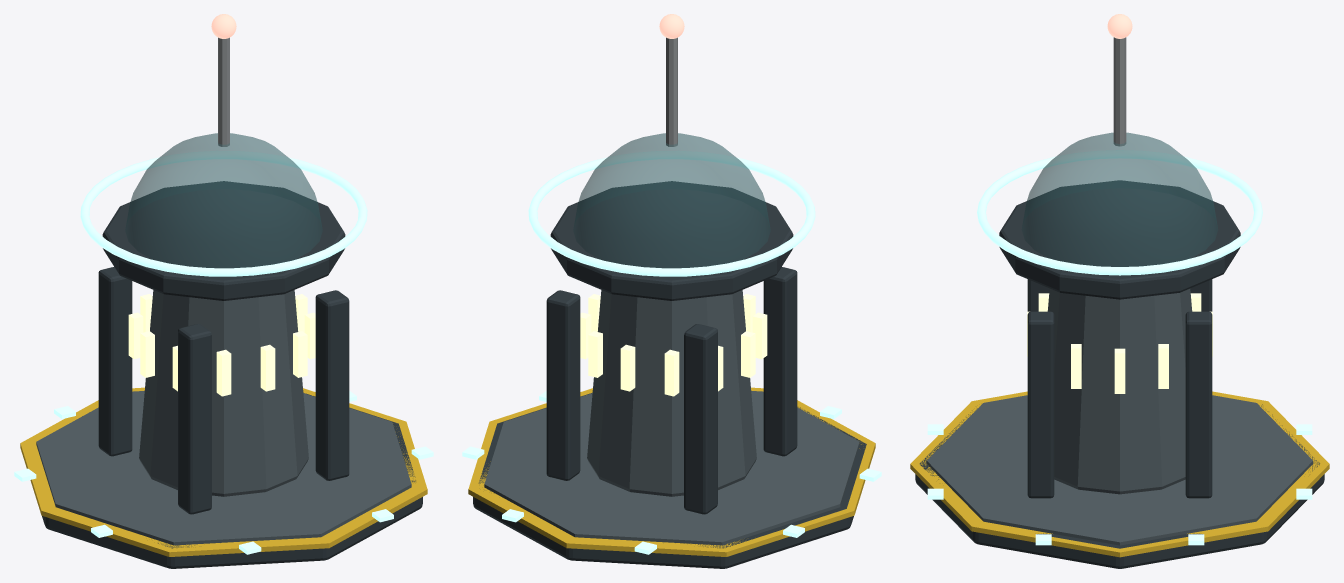
The model's file is research_center.fbx.
3 renders of one model, left to right at view 1: azimuth 30°, elevation 25°; view 2: azimuth 150°, elevation 25°; view 3: azimuth 270°, elevation 25°, orthographic.
Parts seen in each view (by area): view 1: research_center, ANIM_spin_z_45__scanner; view 2: research_center, ANIM_spin_z_45__scanner; view 3: research_center, ANIM_spin_z_45__scanner.
Boxes of the visible parts, left/top/right/bottom form: research_center: left=14, top=14, right=433, bottom=568; ANIM_spin_z_45__scanner: left=80, top=151, right=367, bottom=276; research_center: left=462, top=14, right=881, bottom=568; ANIM_spin_z_45__scanner: left=528, top=151, right=815, bottom=276; research_center: left=910, top=14, right=1329, bottom=568; ANIM_spin_z_45__scanner: left=977, top=150, right=1262, bottom=275.
Size of the model in its own units: 4.69 by 5.79 by 4.69.
